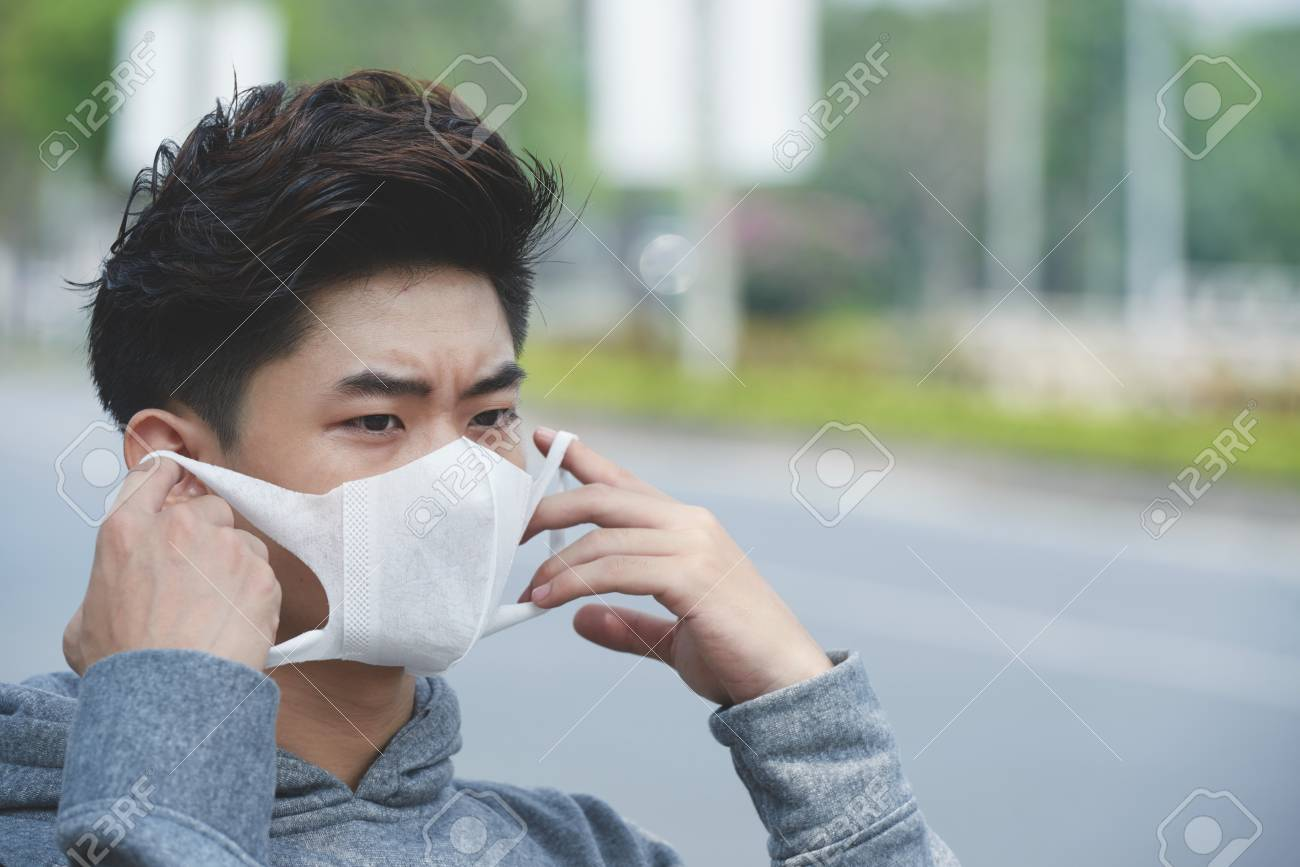mask: (254, 428, 578, 685)
